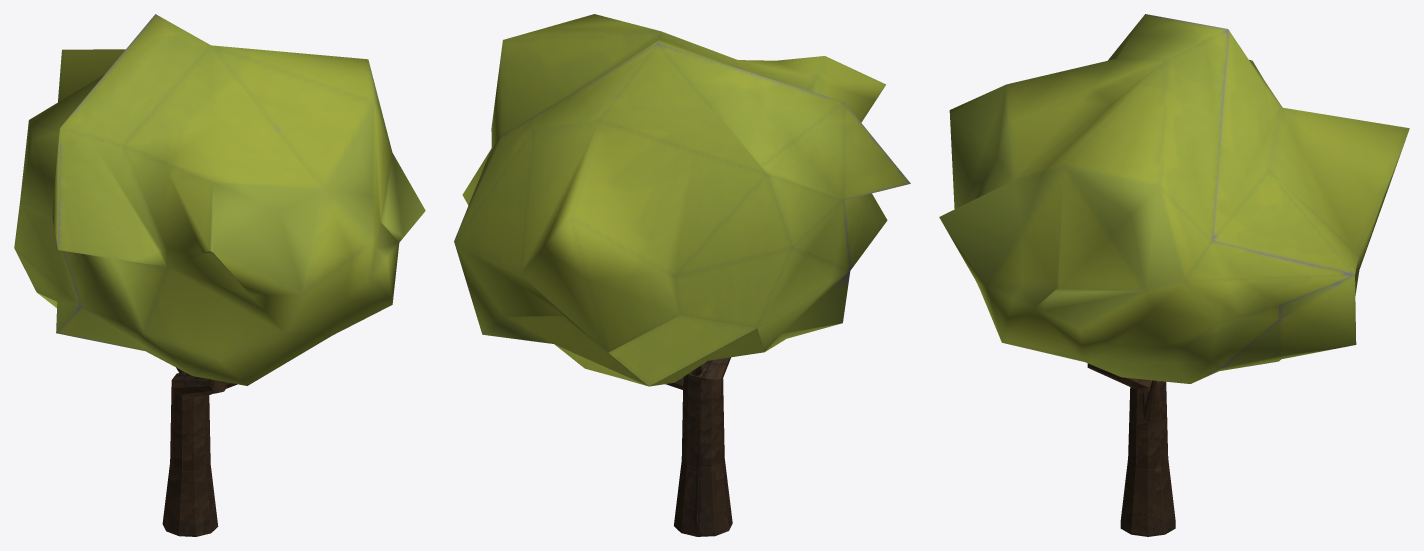
Rendered from tree1.fbx.
3 renders of one model, left to right at view 1: azimuth 30°, elevation 25°; view 2: azimuth 150°, elevation 25°; view 3: azimuth 270°, elevation 25°, orthographic. The views are drawn at different scales.
Parts seen in each view (by area): view 1: polySurface6, polySurface3; view 2: polySurface6, polySurface3; view 3: polySurface6, polySurface3, polySurface4.
Boxes of the visible parts, box(x1,y1,x2,y2) form: polySurface6: box(14, 14, 425, 385); polySurface3: box(162, 373, 226, 536); polySurface6: box(454, 14, 910, 386); polySurface3: box(674, 357, 732, 536); polySurface6: box(939, 14, 1409, 383); polySurface3: box(1087, 363, 1175, 536); polySurface4: box(1142, 380, 1162, 422).
Size of the model in its own units: 154 by 193 by 166.
